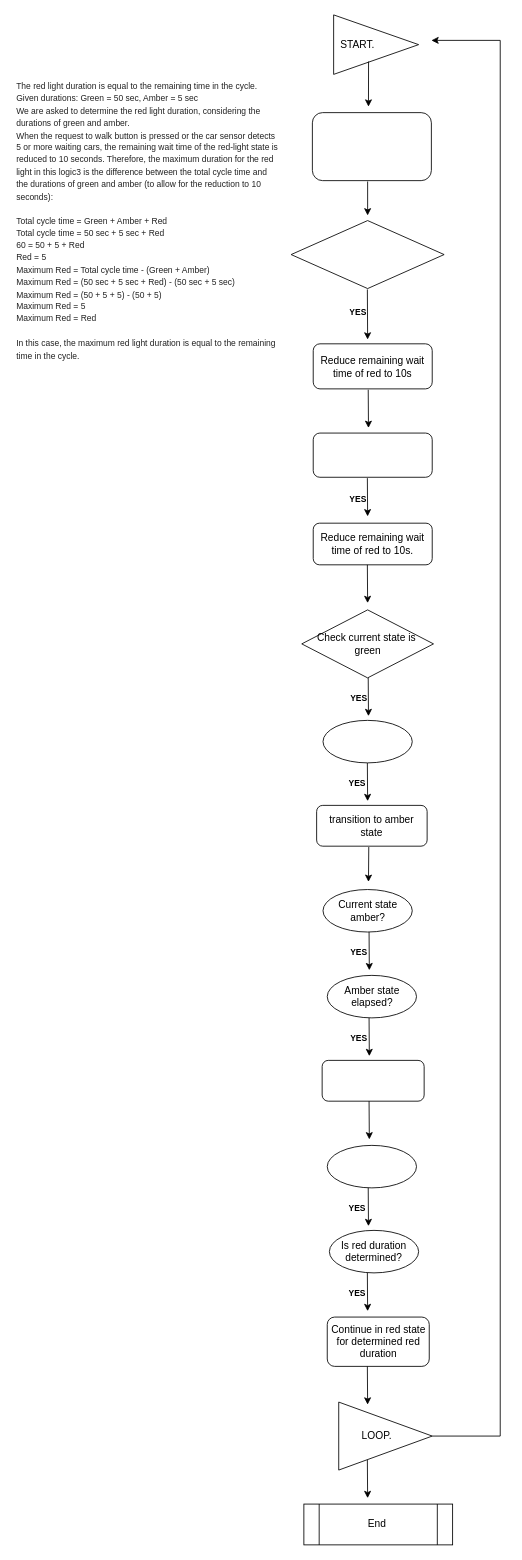
The diagram is 522 pixels wide and 1560 high, and some of its shapes have lost their labels. The box of each missing label's shape, as (x1, y1, x2, y2) in pixels:
Check car sensor detects 5+ cars waiting.: (312, 432, 432, 477)
Check if 'Request-to-walk' button is pressed: (290, 220, 444, 289)
Green time elapsed?: (322, 720, 412, 763)
Is red state?: (326, 1145, 416, 1188)
Set values: green - 50s amber - 10s red - x: (312, 112, 431, 181)
Transition to red state: (321, 1060, 424, 1101)
